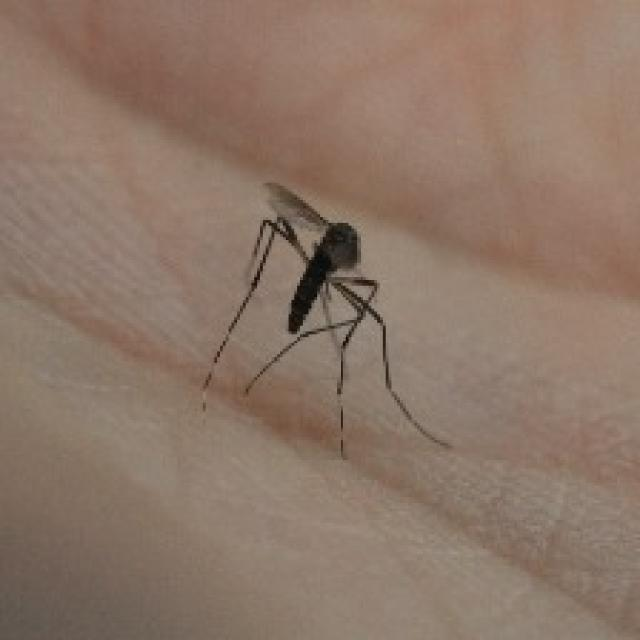aedes: (197, 177, 454, 460)
